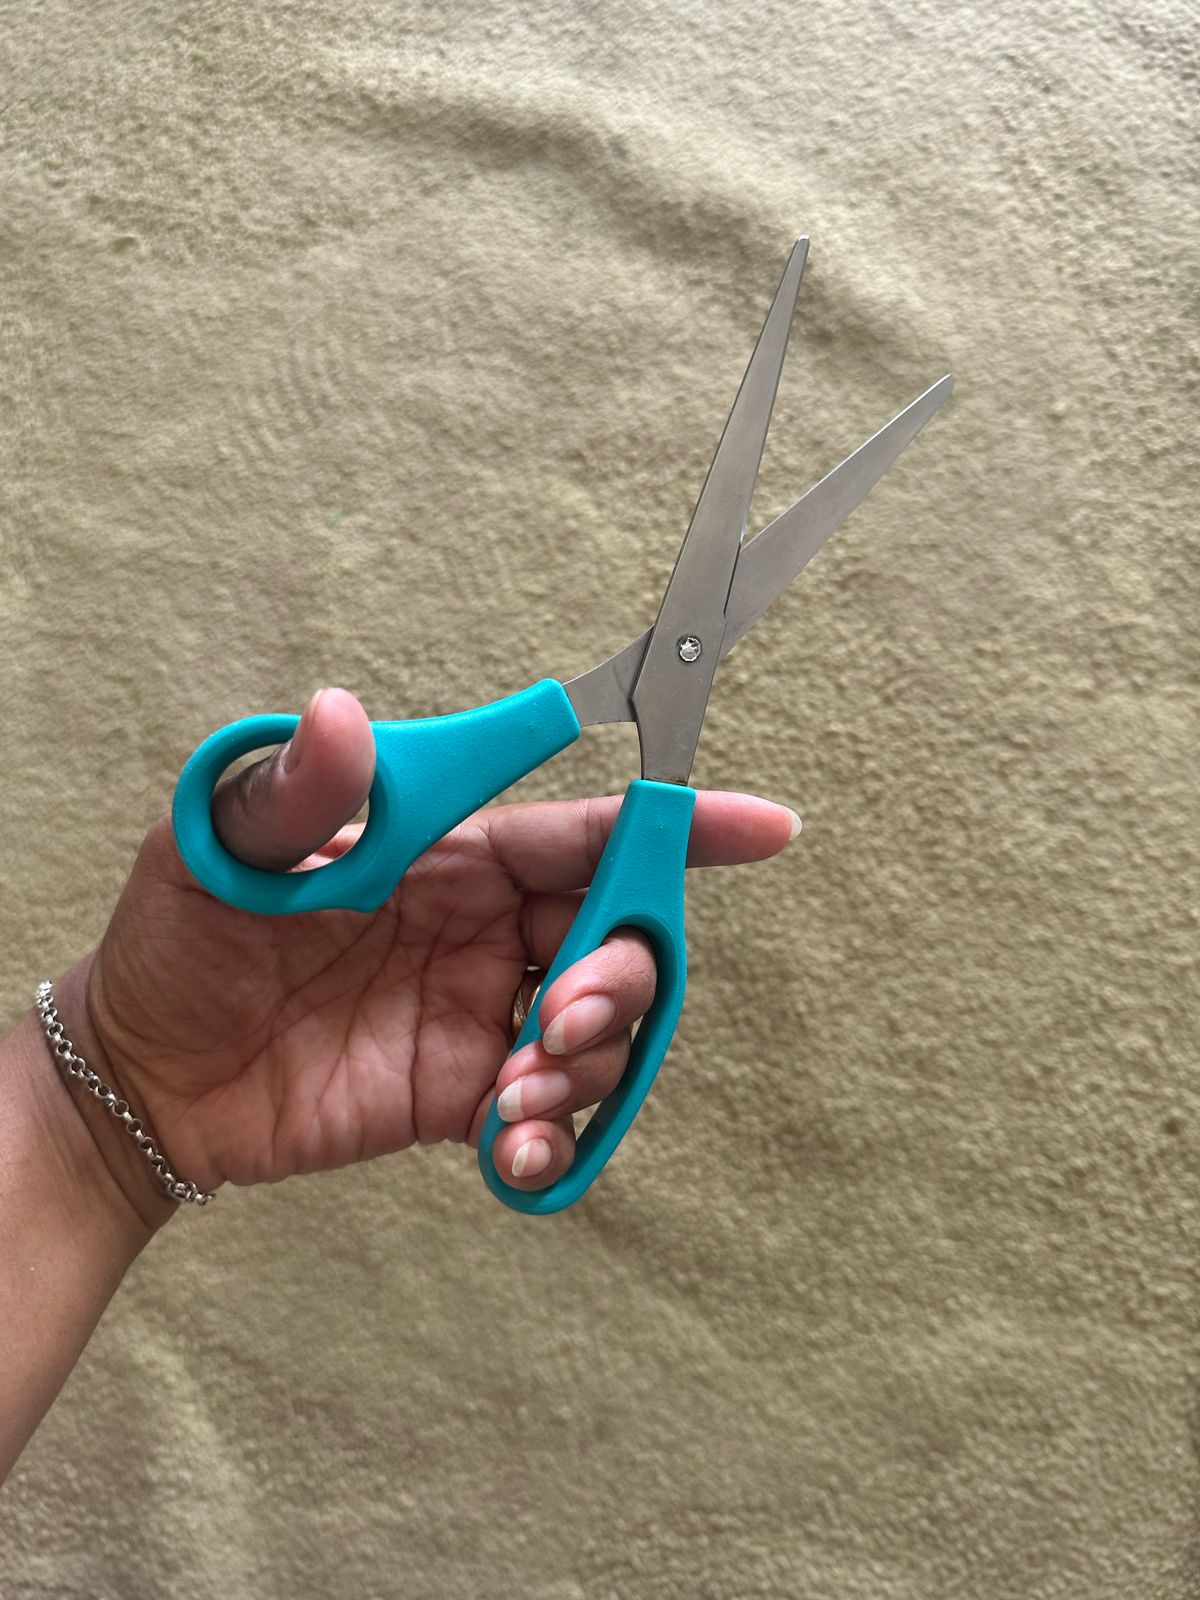tesoura: (410, 232, 1012, 780)
